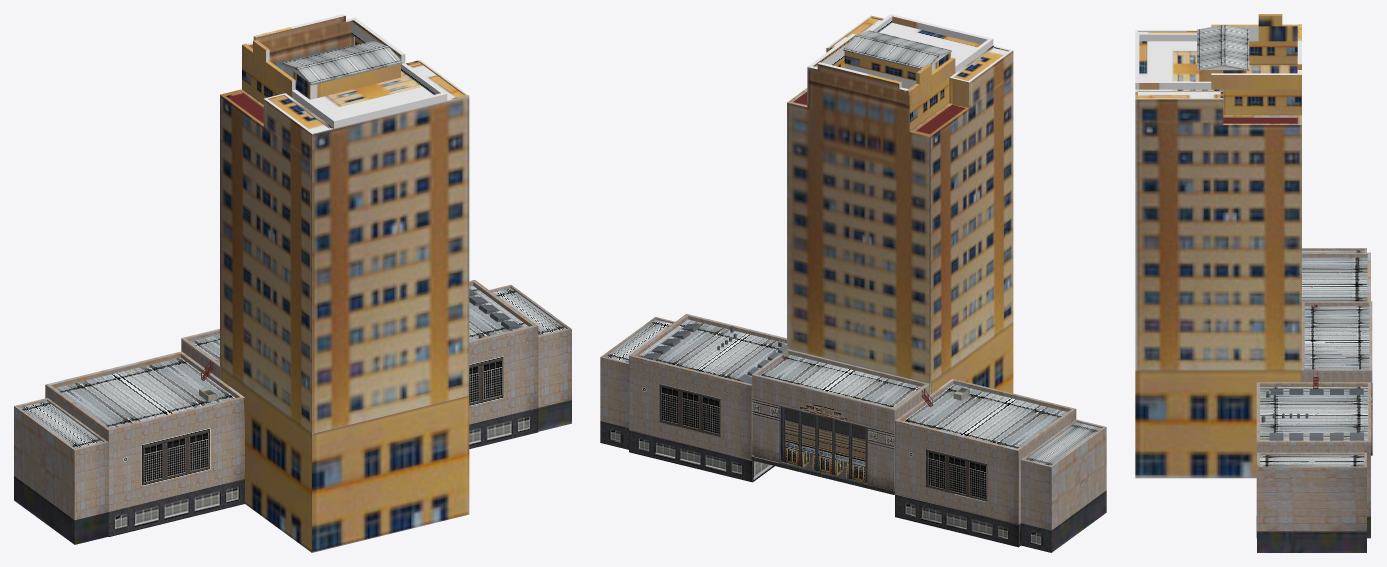
The model's file is monoblockbloque1.fbx.
3 renders of one model, left to right at view 1: azimuth 30°, elevation 25°; view 2: azimuth 150°, elevation 25°; view 3: azimuth 270°, elevation 25°, orthographic. The views are drawn at different scales.
Parts seen in each view (by area): view 1: Cube.024; view 2: Cube.024; view 3: Cube.024.
Part boxes in pixels (x1=…): Cube.024: x1=14, y1=14, x2=571, y2=552; Cube.024: x1=600, y1=14, x2=1106, y2=552; Cube.024: x1=1135, y1=14, x2=1372, y2=552.
Bounding box in the file's own units: 4402 × 3785 × 2012.
44 materials, 44 textured.
